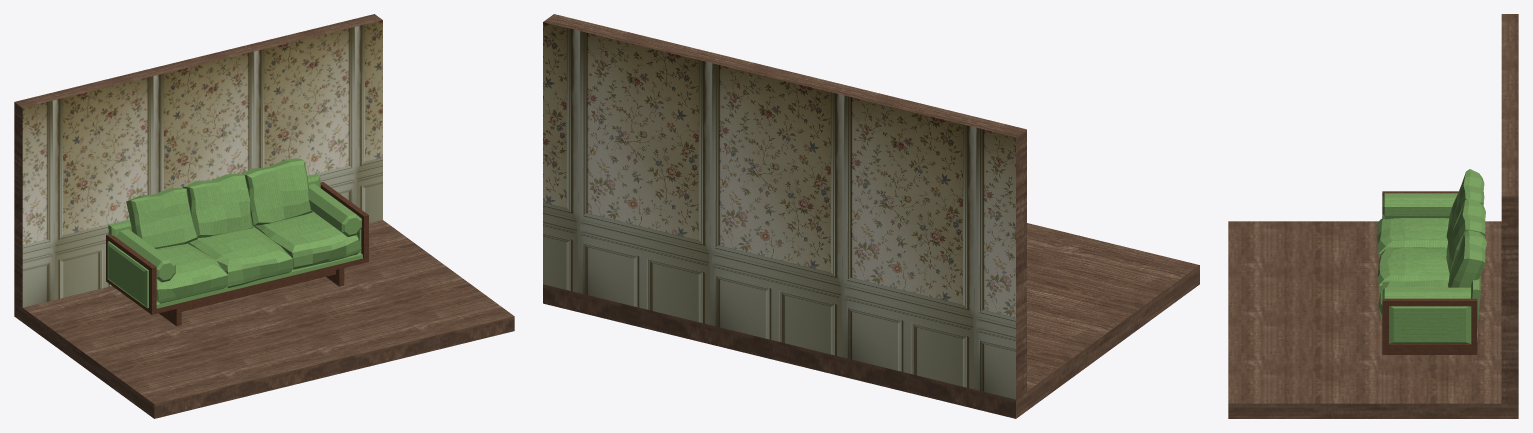
File: low-poly_psx_sofa.glb
The picture shows the model from 3 angles, left to right: view 1: azimuth 30°, elevation 25°; view 2: azimuth 150°, elevation 25°; view 3: azimuth 270°, elevation 25°; orthographic projection. The views are drawn at different scales.
Parts seen in each view (by area): view 1: Wall, Sofa, Seat Pillow_002, Top Pillow_002, Seat Pillow_001, Top Pillow_003, Top Pillow_001, Seat Pillow_003, Side Pillow Base, Side Pillow, Side Pillow.001, Sofa Base.001; view 2: Wall; view 3: Wall, Side Pillow Base, Sofa, Seat Pillow_002, Seat Pillow_003, Side Pillow.001, Top Pillow_002, Top Pillow_003, Side Pillow, Top Pillow_001, Seat Pillow_001.
Boxes of the visible parts, x1,y1,x2,y2 form: Wall: (14, 14, 514, 418); Sofa: (106, 182, 368, 326); Seat Pillow_002: (187, 226, 293, 287); Top Pillow_002: (242, 158, 312, 225); Seat Pillow_001: (253, 212, 361, 269); Top Pillow_003: (183, 173, 253, 237); Top Pillow_001: (126, 188, 197, 248); Seat Pillow_003: (156, 243, 228, 303); Side Pillow Base: (107, 229, 361, 308); Side Pillow: (309, 183, 361, 236); Side Pillow.001: (116, 229, 175, 282); Sofa Base.001: (156, 252, 362, 308); Wall: (543, 14, 1199, 418); Wall: (1228, 14, 1518, 418); Side Pillow Base: (1389, 306, 1471, 343); Sofa: (1382, 191, 1477, 354); Seat Pillow_002: (1377, 247, 1449, 295); Seat Pillow_003: (1376, 217, 1449, 259); Side Pillow.001: (1382, 193, 1457, 219); Top Pillow_002: (1448, 230, 1486, 287); Top Pillow_003: (1446, 198, 1485, 273); Side Pillow: (1382, 287, 1470, 298); Top Pillow_001: (1446, 169, 1484, 241); Seat Pillow_001: (1378, 279, 1448, 321).
Size of the model in its own units: 4.03 by 2.3 by 2.72.
5 materials, 5 textured.
